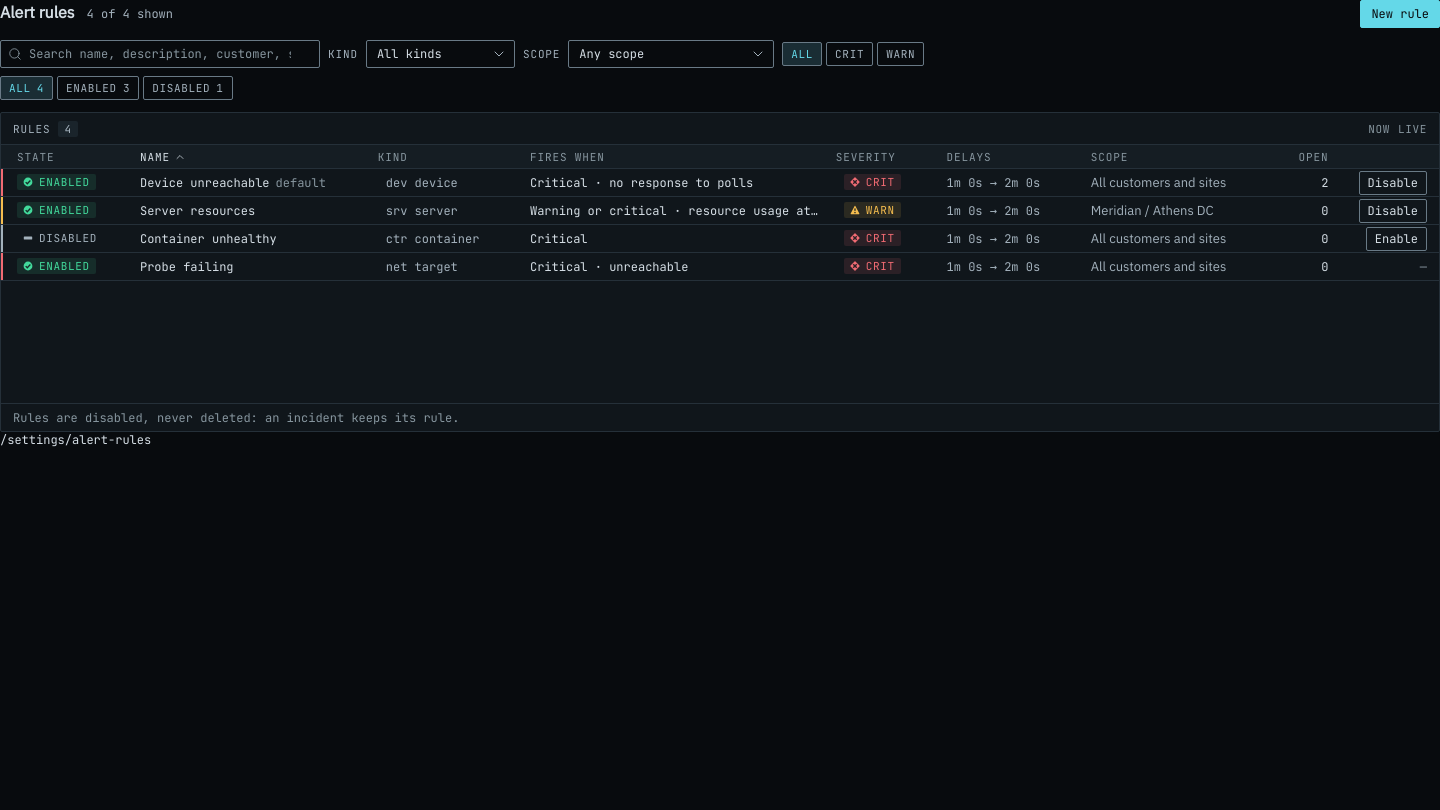
Scenario: switching a rule on or off › puts the focus on the safe button, and Cancel changes nothing
Click the button with aria-label "Disable rule Device unreachable".
click(1393, 182)  # box [1359, 170, 1427, 194]
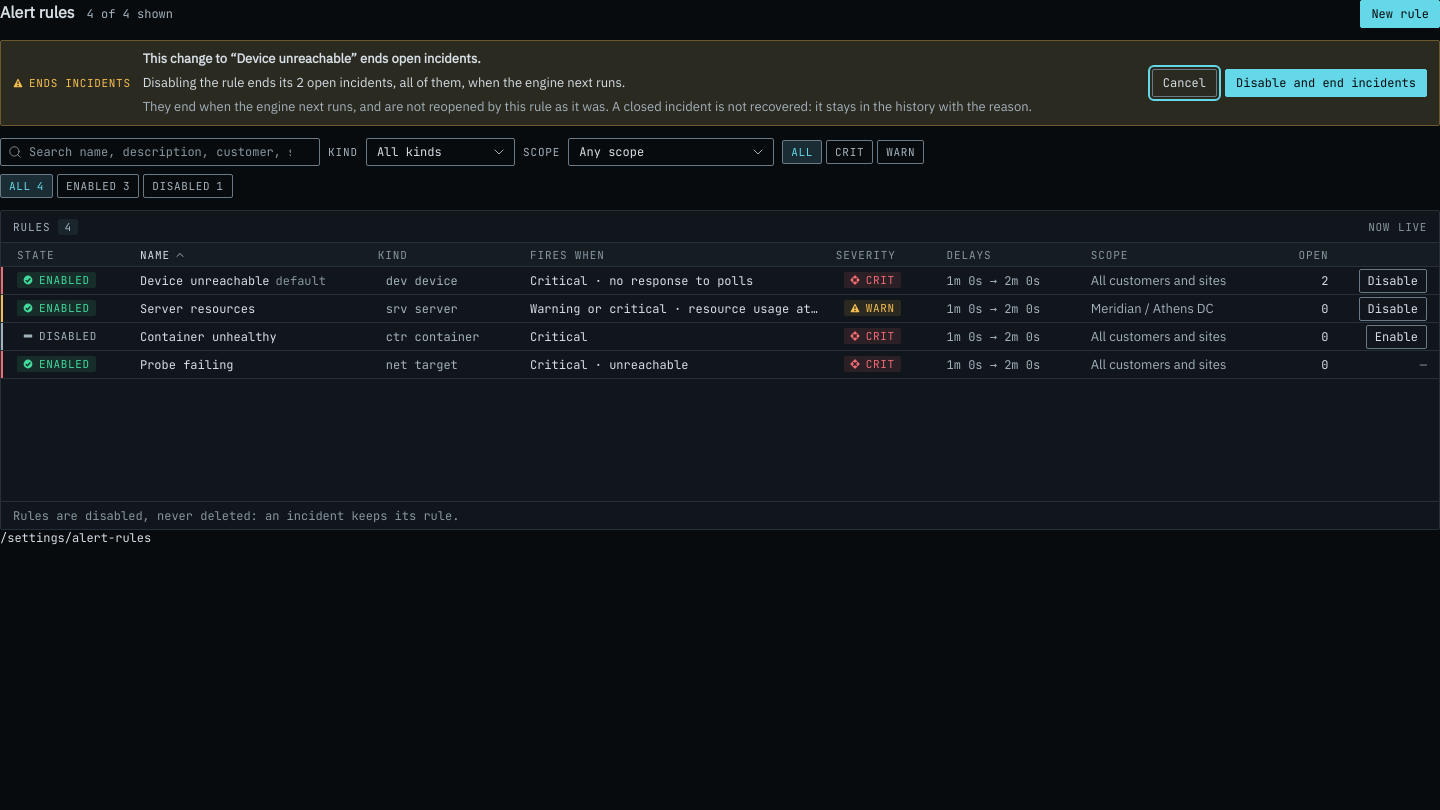
Click the button "Cancel".
click(1184, 83)  # box [1152, 69, 1217, 97]
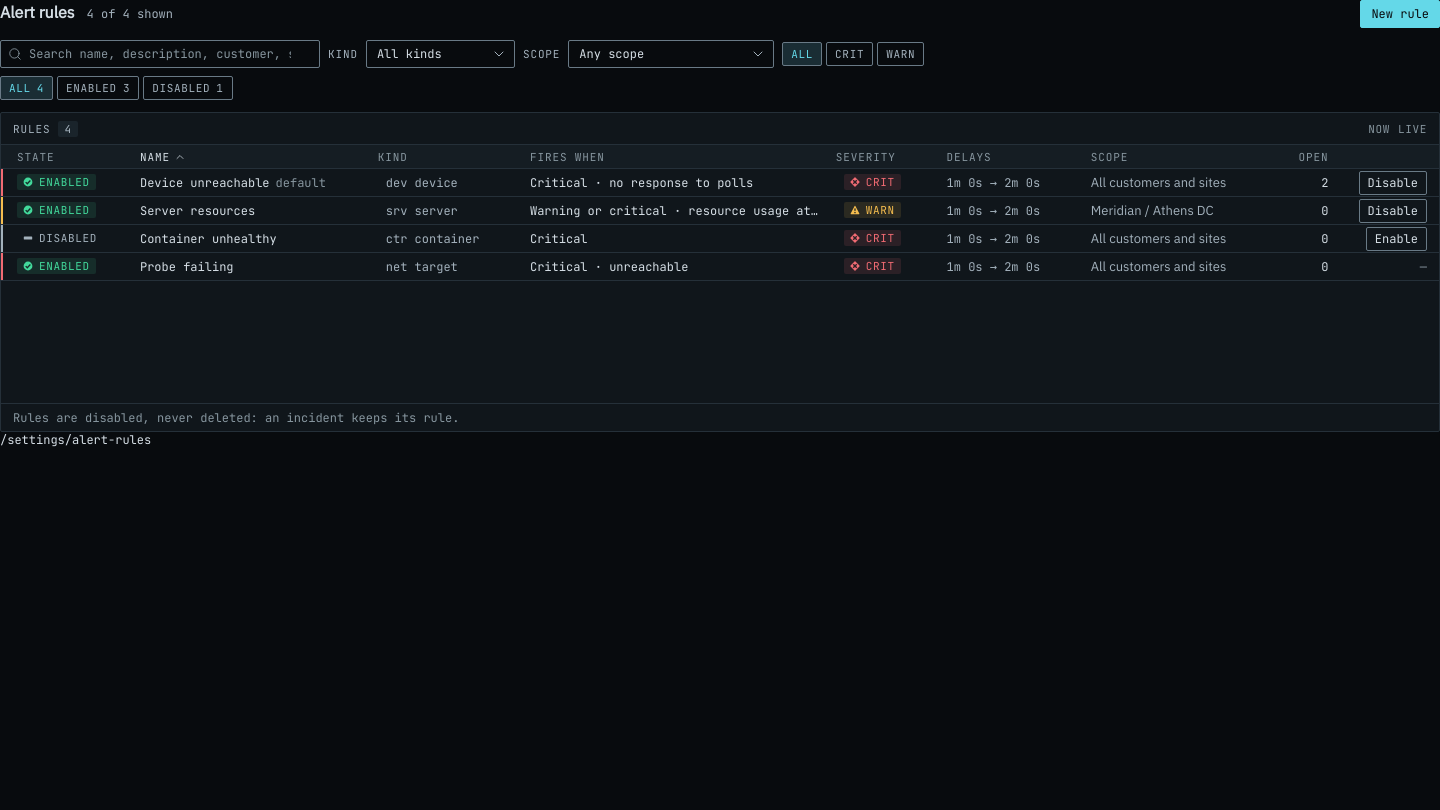
Check: the dialog is gone
